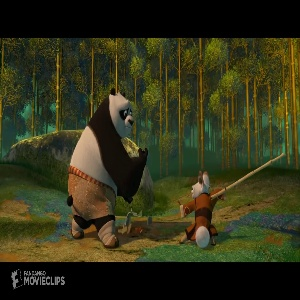po: (63, 85, 151, 250)
shifu: (177, 168, 220, 249)
